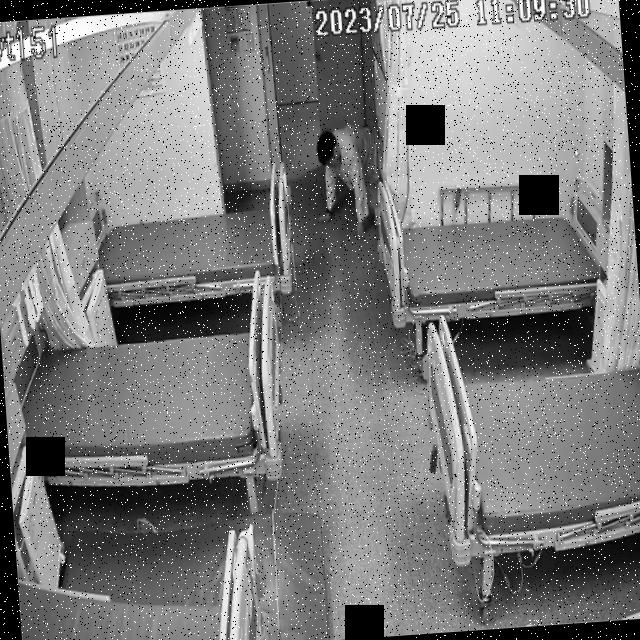bed: (420, 301, 640, 561), (15, 321, 288, 491), (374, 192, 616, 328), (97, 194, 292, 306)
fall: (311, 115, 383, 241)
patient: (310, 115, 386, 242)
